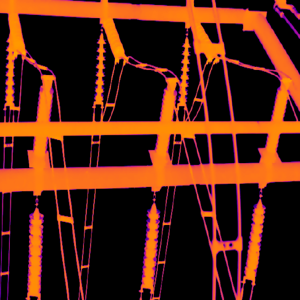insulator: (154, 87, 174, 172), (263, 86, 287, 155), (31, 89, 52, 167), (244, 200, 264, 280), (26, 208, 42, 298), (141, 201, 157, 288), (101, 14, 124, 56), (94, 31, 105, 105), (178, 35, 189, 105), (8, 9, 24, 54), (5, 31, 14, 108)
